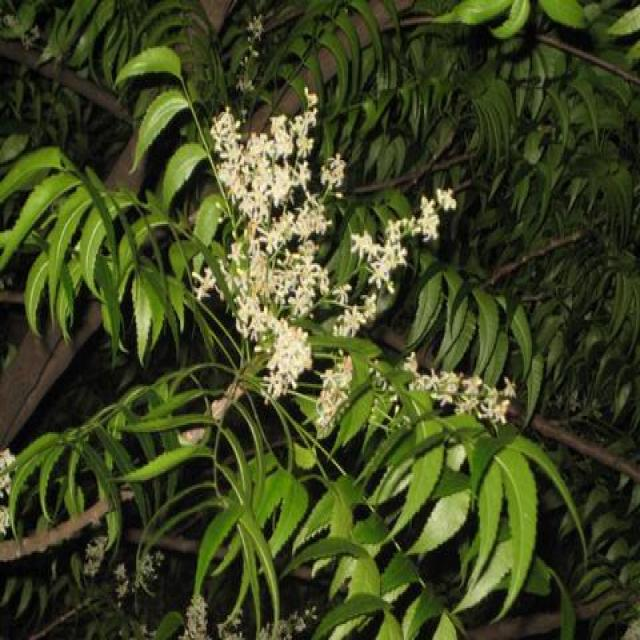Medicinal-Neem: (8, 23, 543, 640), (512, 99, 640, 416)
